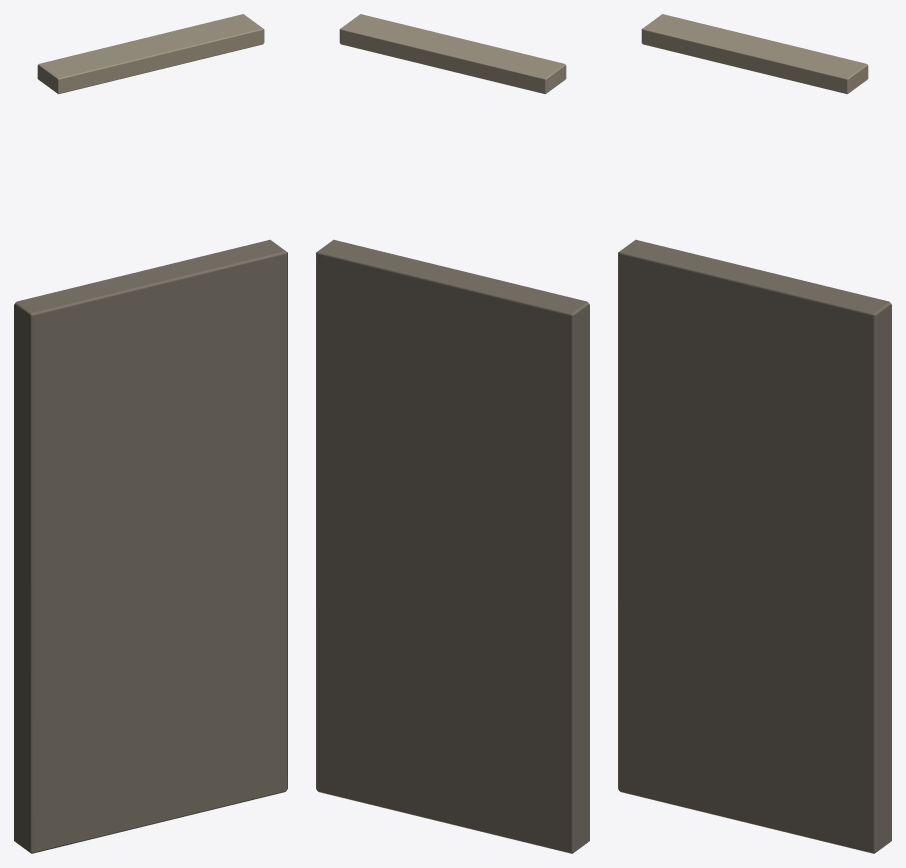
The model's file is stone-halls-window-sill.cc8a6252.glb.
3 views of the same model, side by side, from view 1: azimuth 30°, elevation 25°; view 2: azimuth 150°, elevation 25°; view 3: azimuth 330°, elevation 25° (orthographic).
Parts seen in each view (by area): view 1: body; view 2: body; view 3: body.
Boxes of the visible parts, left/top/right/bottom form: body: left=14, top=14, right=287, bottom=853; body: left=316, top=14, right=589, bottom=853; body: left=618, top=14, right=891, bottom=853.
Size of the model in its own units: 1 by 2.85 by 0.14.
